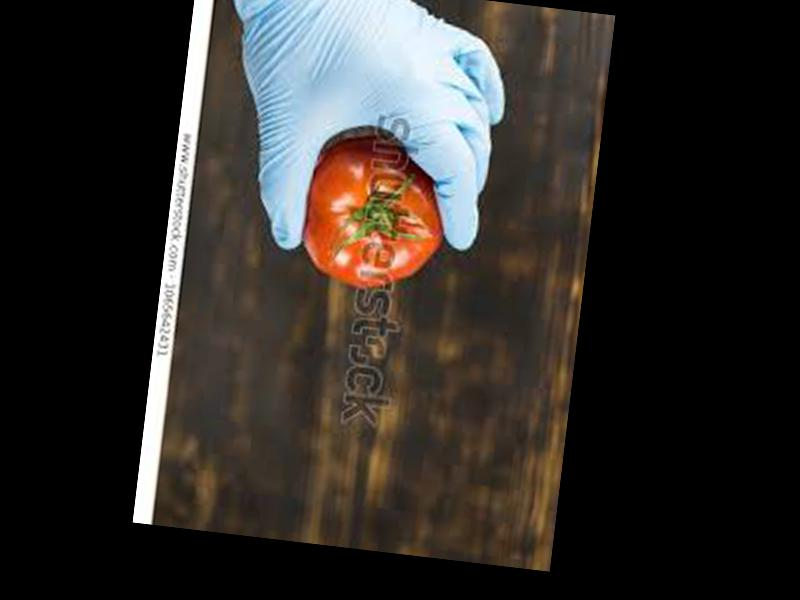Tomato: (295, 127, 453, 298)
